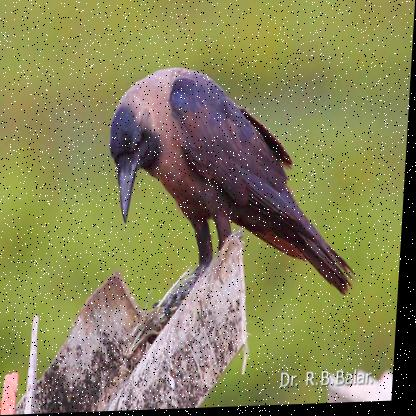Burung: (103, 62, 369, 306)
